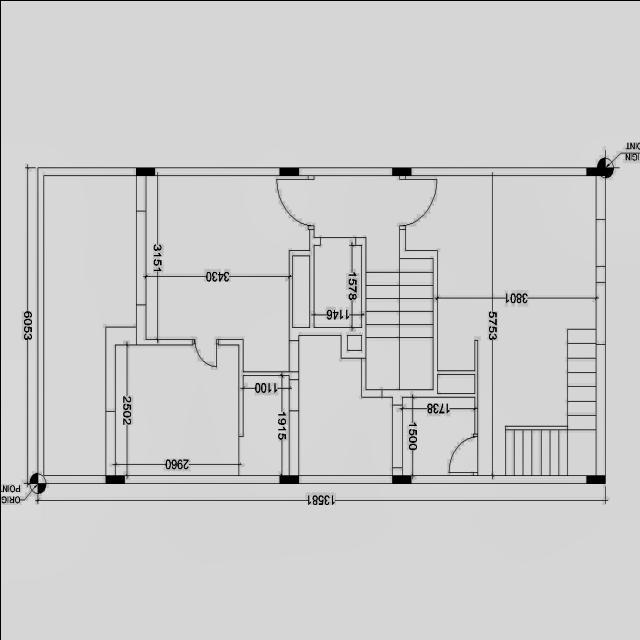Column: (278, 167, 298, 175), (278, 474, 298, 482), (105, 475, 124, 483), (135, 167, 154, 175), (392, 167, 411, 175), (392, 474, 411, 482), (586, 167, 604, 175), (586, 475, 604, 483)
Door: (397, 176, 437, 230), (274, 177, 314, 230), (447, 432, 478, 476), (190, 337, 218, 367)
Staircase: (480, 297, 598, 478), (362, 232, 434, 392)
